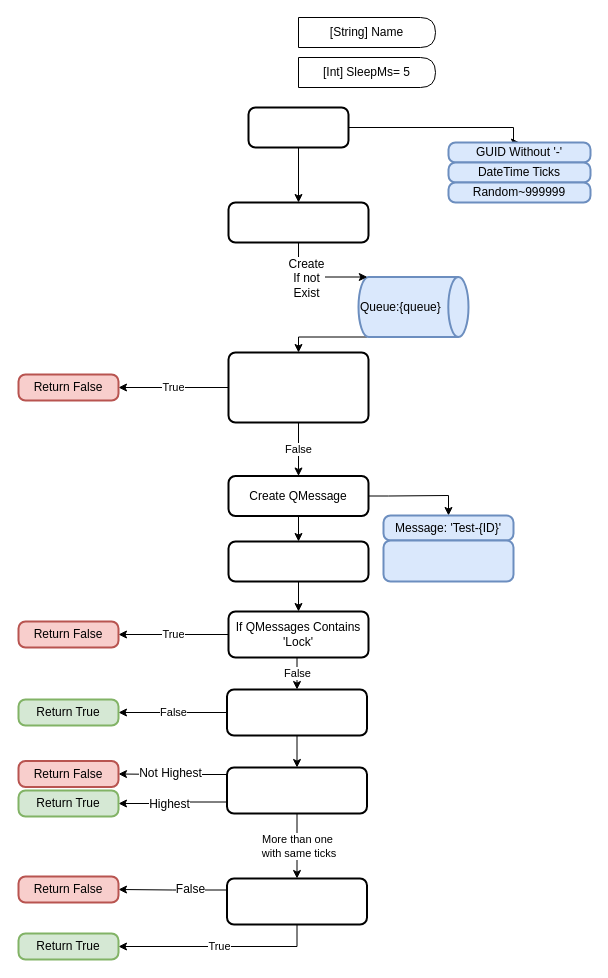
This 608x978 diagram has some shape labels left out. The shapes that lost their labels are listed below. From the top down, each one's centre as x and y in pixels, then its label:
pixel 298 127: Create ID
pixel 298 222: Get Queue ref 'singleton-{Name}'
pixel 298 387: If QMessages contains "Lock*"
pixel 298 561: Wait {SleepMs*10} ms
pixel 448 560: Timeout: {SleepMs*1000}
pixel 297 712: If QMessages Contains More than one 'Test' Message
pixel 297 790: Check {ID Ticks} compared to rest
pixel 297 901: Current ID has higest random number
